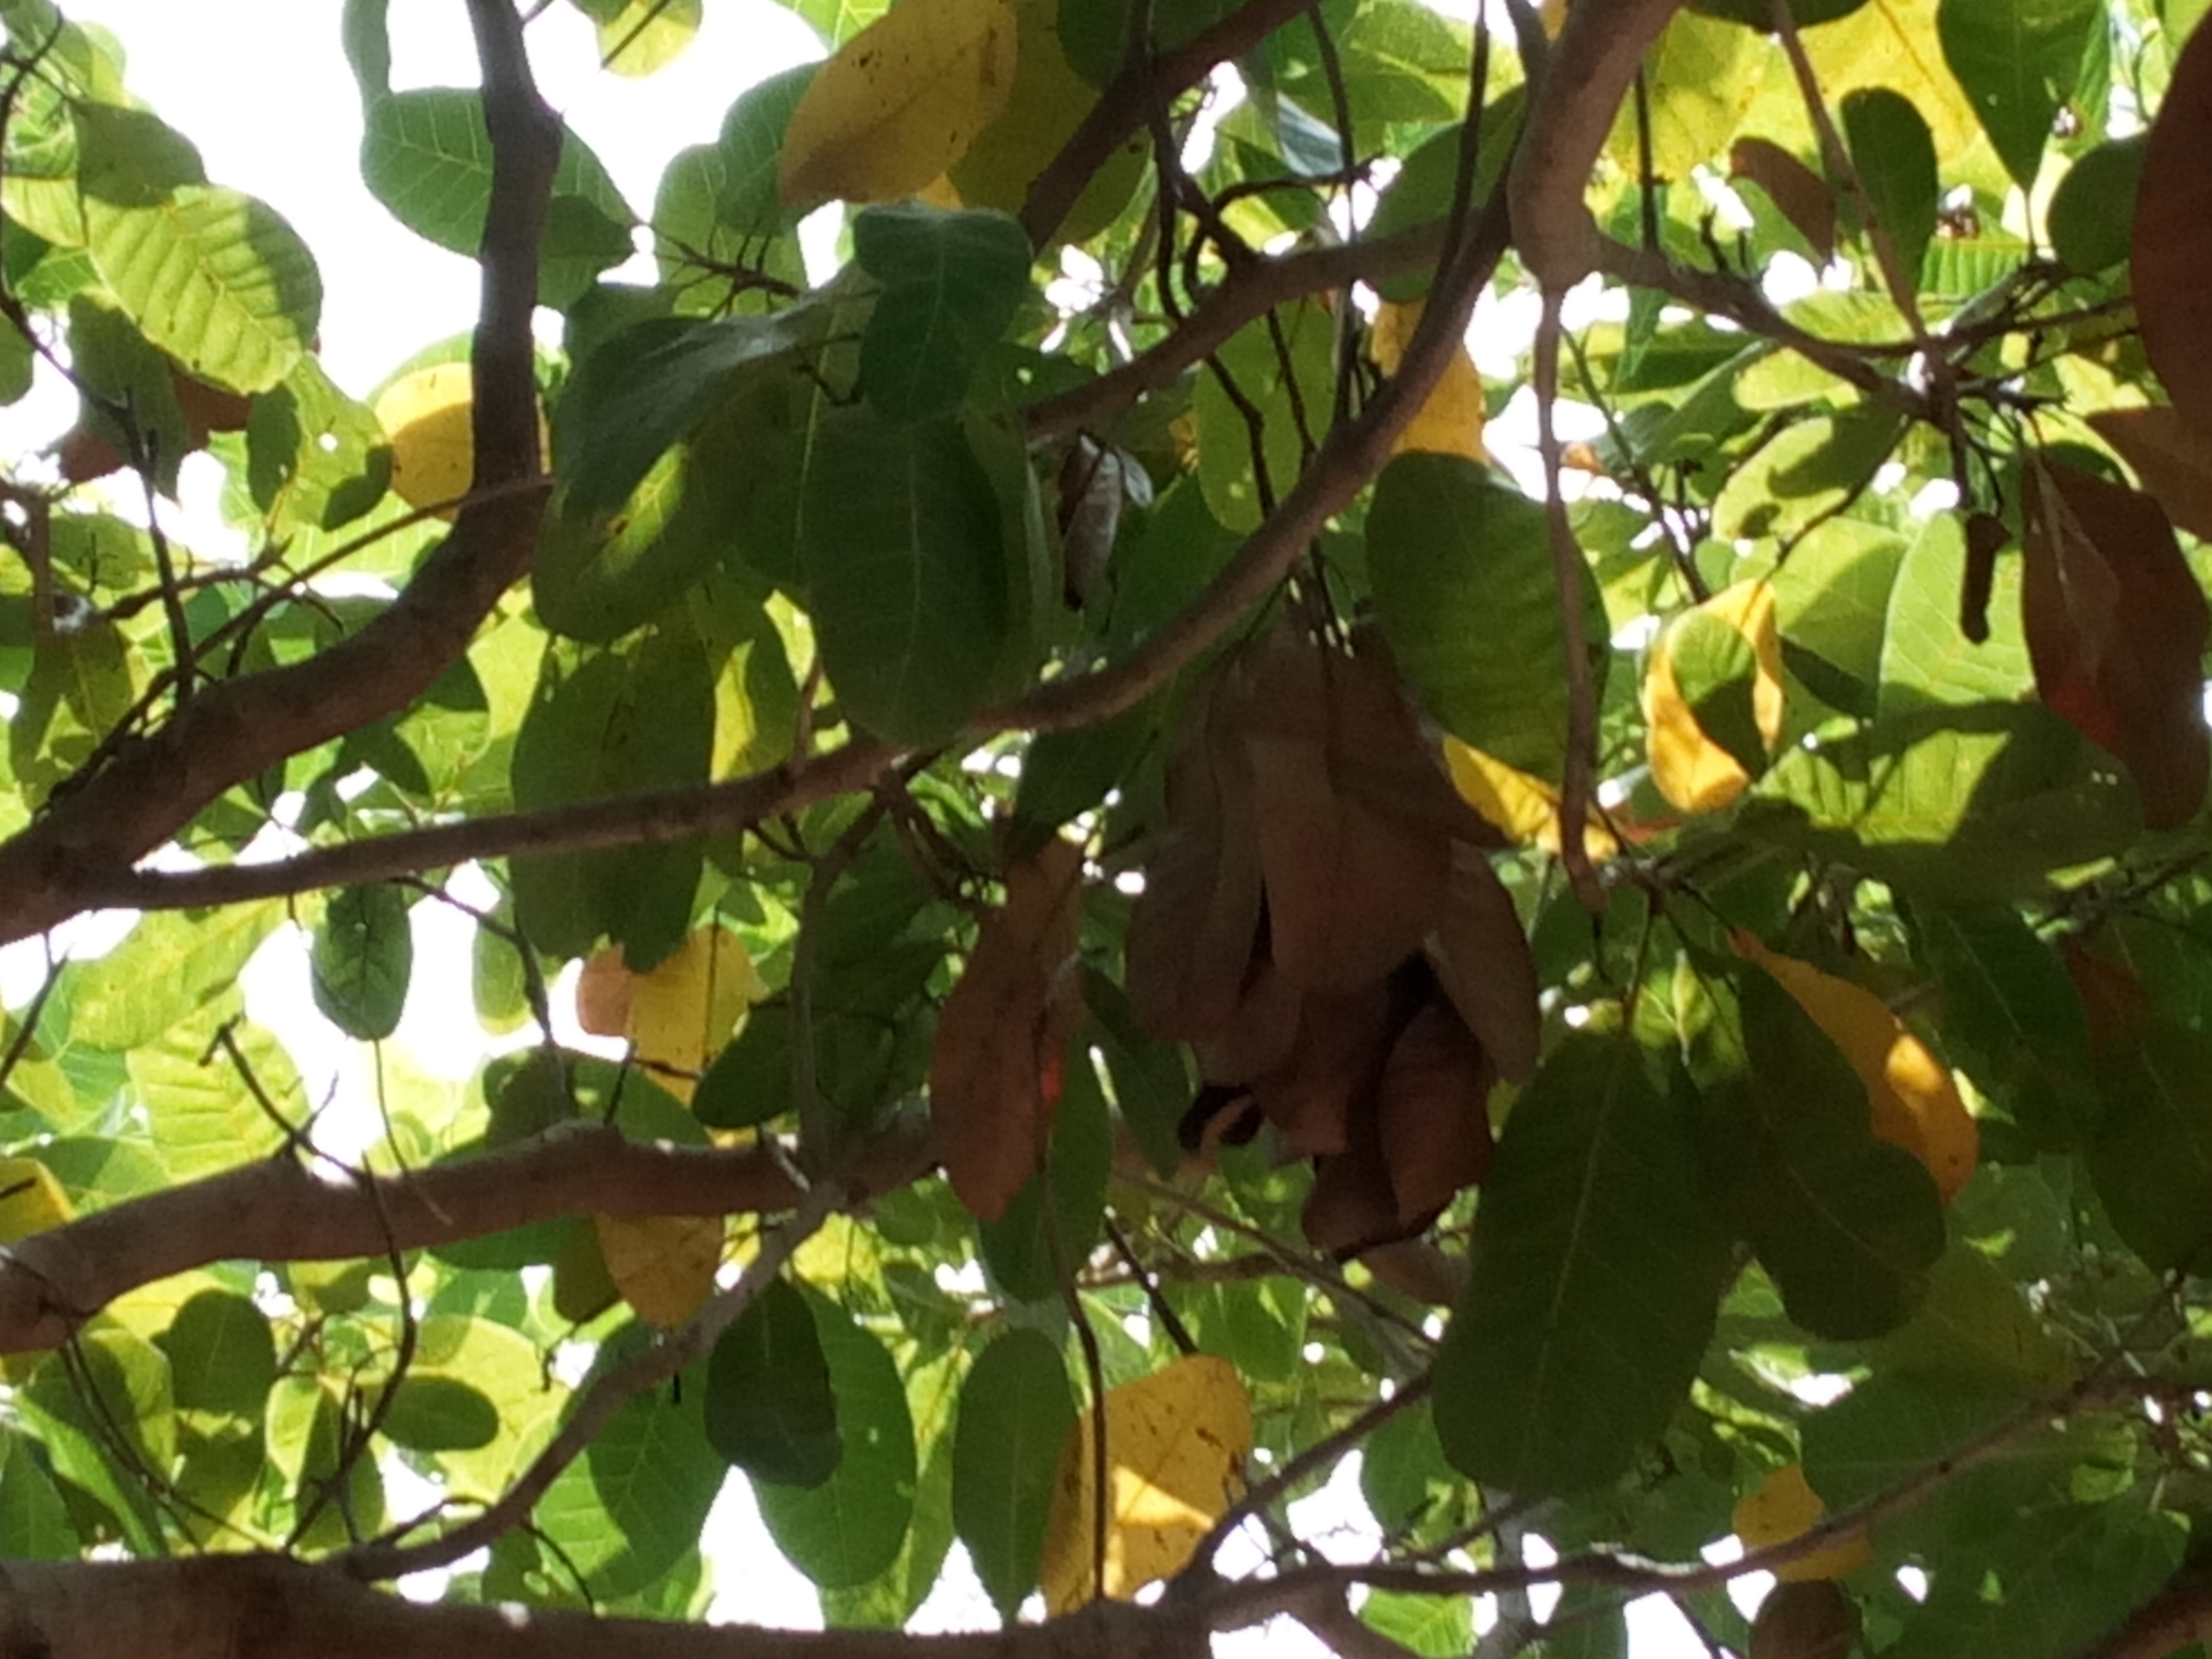Dessèchement des bourgeons: (1895, 260, 2097, 636)
